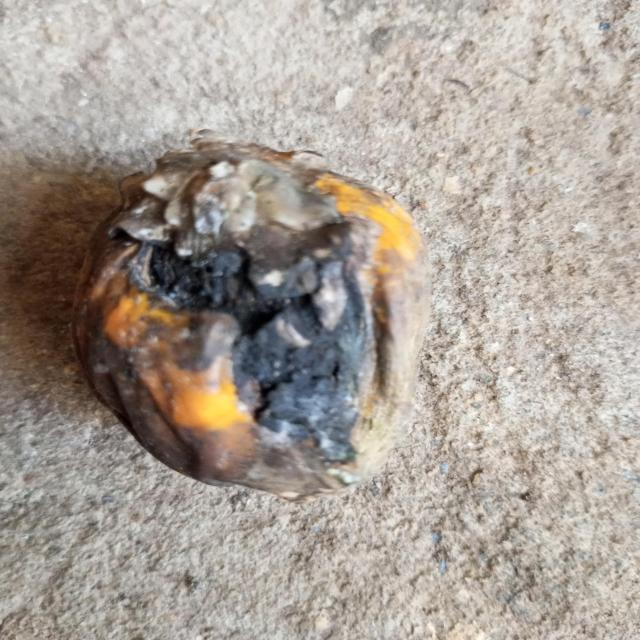damaged: (73, 131, 430, 501)
